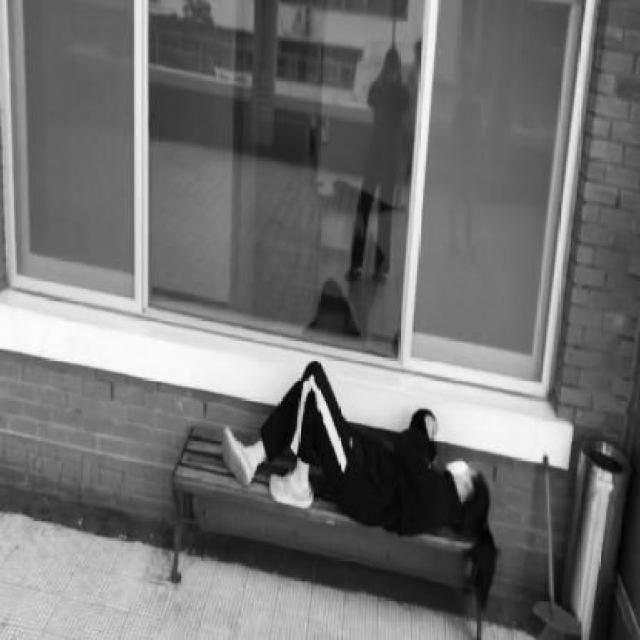person: (222, 362, 489, 544)
